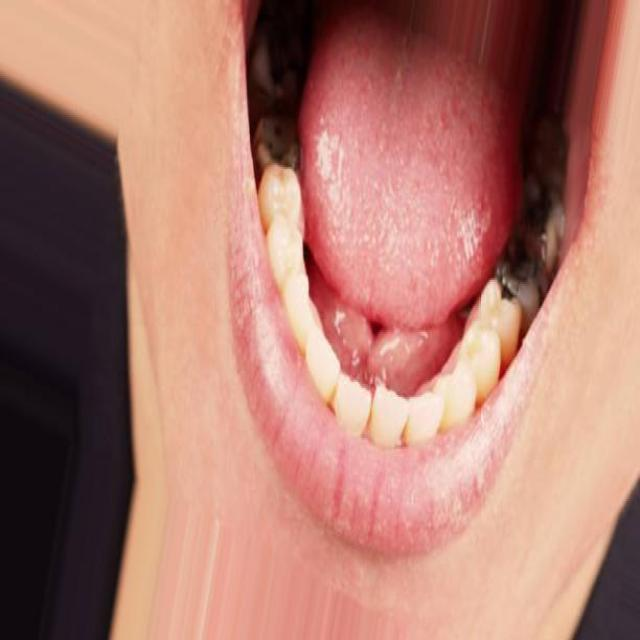caries: (496, 230, 541, 308), (256, 105, 299, 175), (523, 179, 561, 253)
